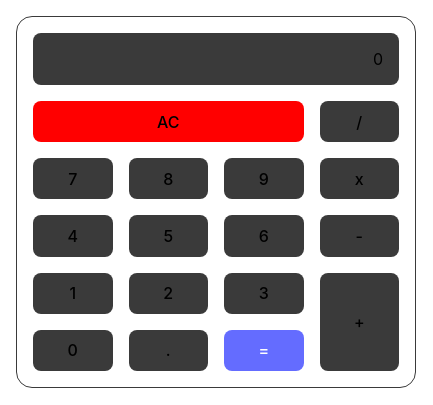
Calculadora - e2e (espelho de utils.test.ts) › isNumber (entrada de numeros) › "25" e aceito
Expected: the text "0" is shown, [373,49,383,69]
Click the button "2".
click(169, 294)  # box [129,273,209,314]
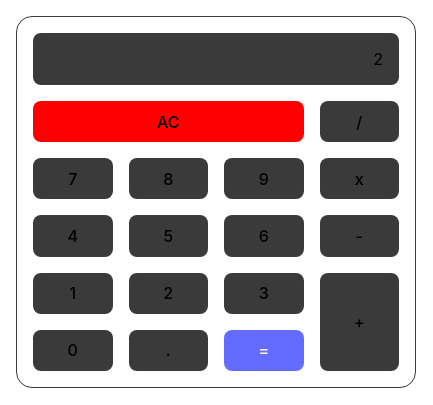
Click the button "5".
click(169, 236)  # box [129,215,209,256]
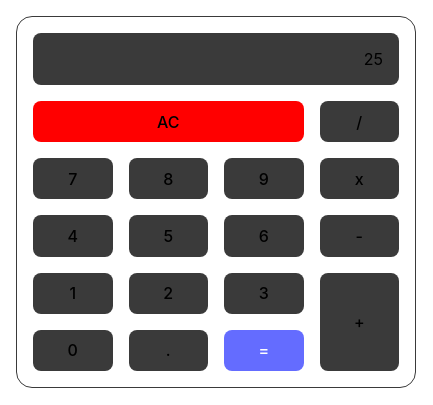
Now the text with test id "display" reads "25", box [364,49,383,69]
